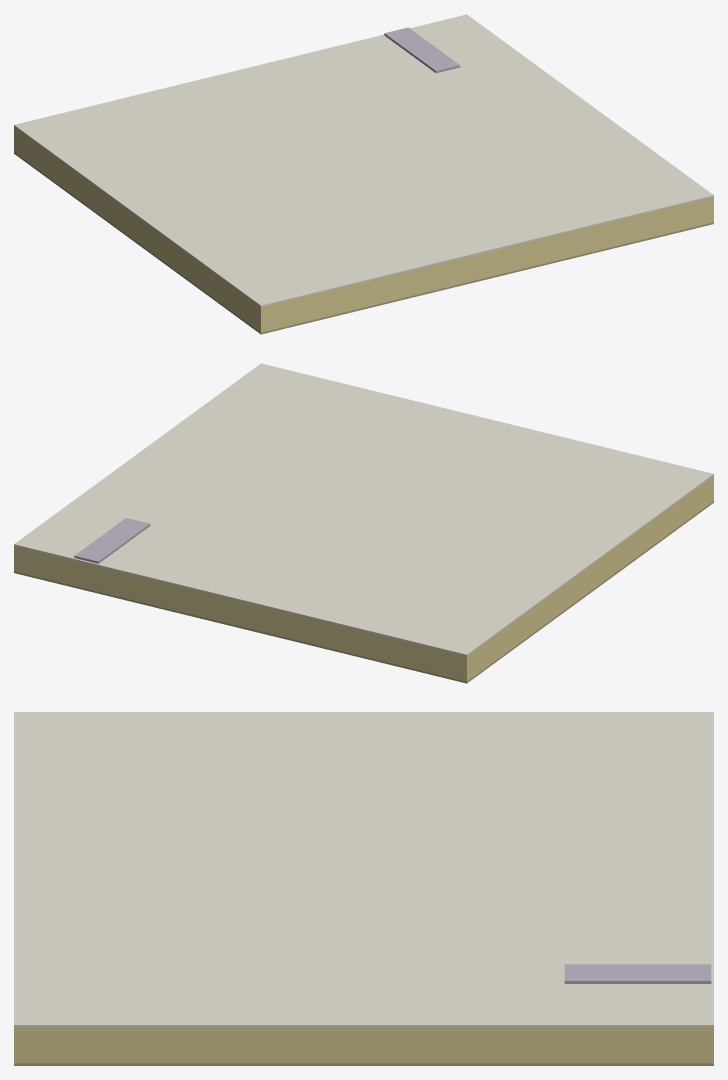
Rendered from gbi_L1_3.glb.
The picture shows the model from 3 angles, top to bottom: view 1: azimuth 30°, elevation 25°; view 2: azimuth 150°, elevation 25°; view 3: azimuth 270°, elevation 25°; orthographic projection. The views are drawn at different scales.
Visible parts, largest first — view 1: Ceiling, Wall_S_1, Wall_W_1, Floor, Sky_Ceiling_to_L1_4; view 2: Ceiling, Wall_N_1, Wall_W_1, Floor, Sky_Ceiling_to_L1_4; view 3: Ceiling, Wall_E_1, Sky_Ceiling_to_L1_4, Floor.
Boxes of the visible parts, box(x1,y1,x2,y2) form: Ceiling: box(14, 14, 713, 307); Wall_S_1: box(260, 197, 713, 332); Wall_W_1: box(15, 127, 259, 331); Floor: box(14, 152, 713, 334); Sky_Ceiling_to_L1_4: box(384, 27, 460, 73); Ceiling: box(14, 363, 713, 656); Wall_N_1: box(14, 546, 467, 681); Wall_W_1: box(468, 476, 712, 680); Floor: box(14, 501, 713, 683); Sky_Ceiling_to_L1_4: box(74, 518, 150, 563); Ceiling: box(14, 712, 713, 1027); Wall_E_1: box(16, 1027, 711, 1063); Sky_Ceiling_to_L1_4: box(564, 964, 711, 983); Floor: box(14, 1063, 713, 1065).
Bounding box in the file's own units: 52.6 × 3.55 × 49.7.
